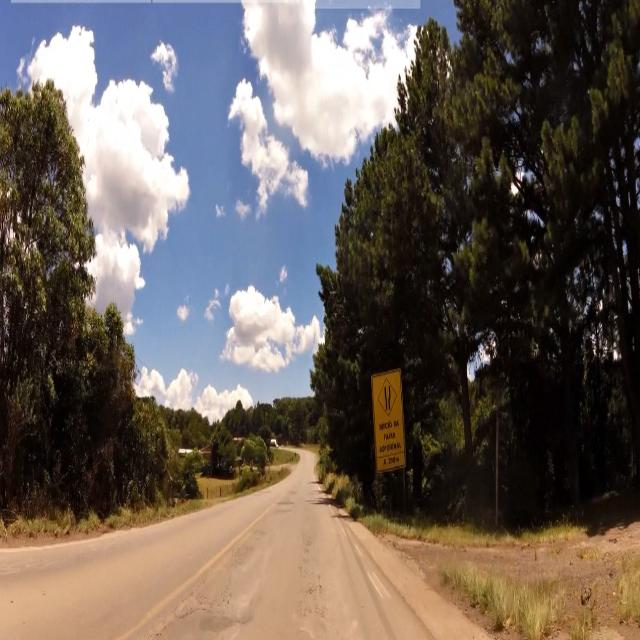A-21e: (376, 375, 400, 419)
